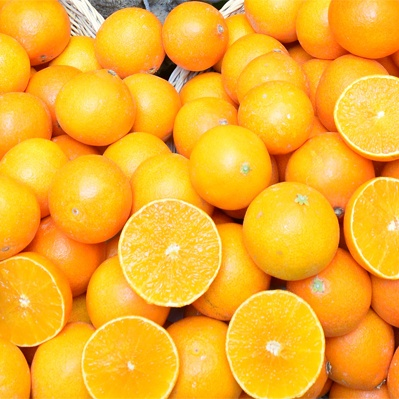mandarin: (118, 200, 223, 307), (224, 289, 325, 399), (242, 181, 340, 282), (188, 220, 271, 322), (81, 315, 180, 399), (285, 133, 376, 221), (285, 248, 372, 340), (1, 252, 75, 349), (161, 315, 245, 399), (49, 156, 133, 240), (191, 126, 273, 211), (24, 213, 106, 295), (86, 258, 171, 331), (56, 68, 135, 145), (133, 150, 215, 224), (315, 55, 391, 132), (343, 176, 399, 279), (30, 320, 102, 399), (236, 80, 312, 154), (336, 76, 399, 164), (327, 310, 396, 389), (1, 140, 70, 218), (94, 7, 165, 79), (222, 32, 292, 104), (238, 50, 312, 115), (162, 1, 228, 73), (26, 65, 92, 134), (1, 1, 71, 65), (122, 72, 183, 143), (329, 1, 399, 61), (172, 99, 240, 158), (1, 174, 41, 261), (101, 131, 173, 178), (1, 90, 53, 155), (298, 1, 350, 60), (244, 1, 304, 42), (176, 71, 234, 110), (53, 37, 106, 79), (1, 31, 31, 98), (1, 333, 30, 399), (373, 273, 399, 329), (388, 348, 398, 399)
